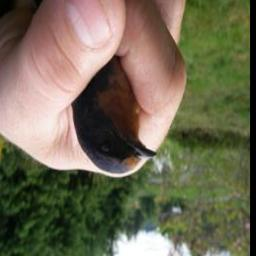Swallow: (69, 55, 159, 178)
